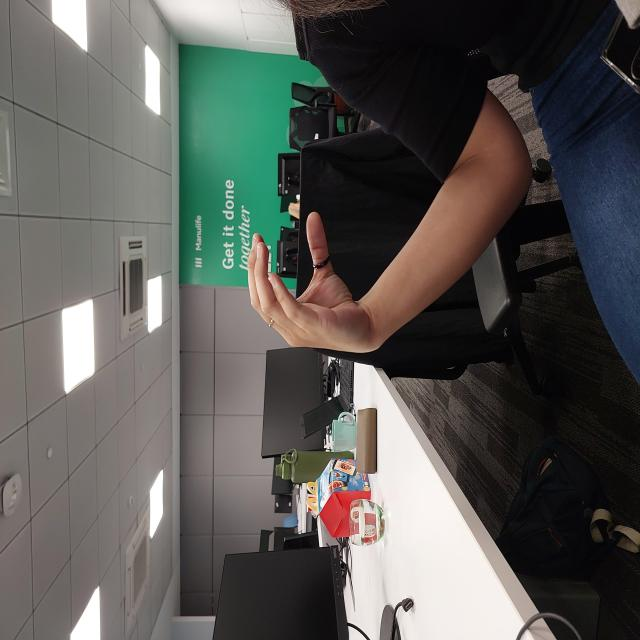C: (286, 246, 432, 377)
